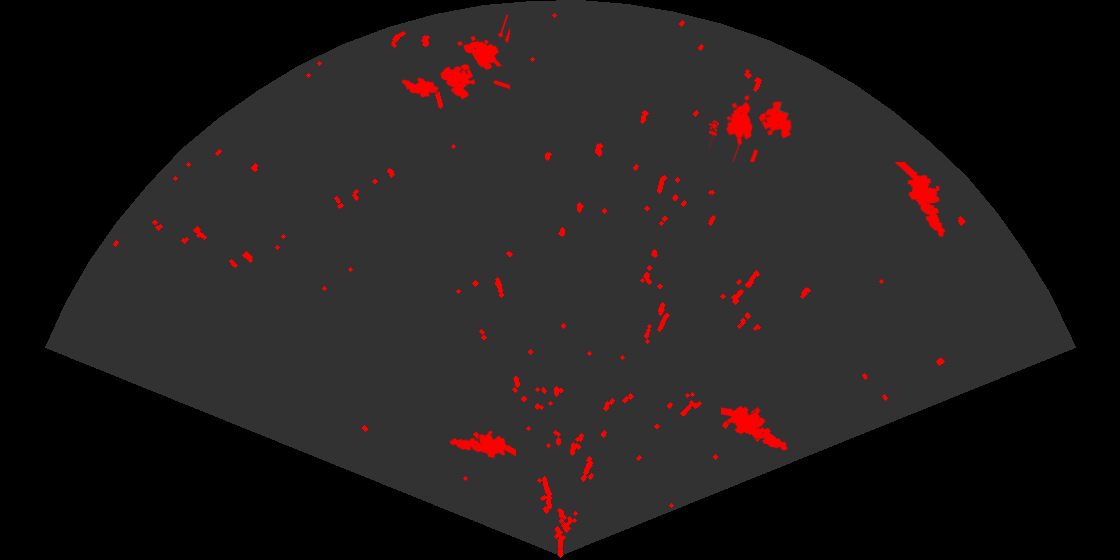AUV: (400, 76, 440, 100)
cage: (439, 15, 510, 101), (709, 93, 793, 162)
frogman: (893, 162, 947, 239), (721, 404, 789, 452), (448, 429, 516, 460)
